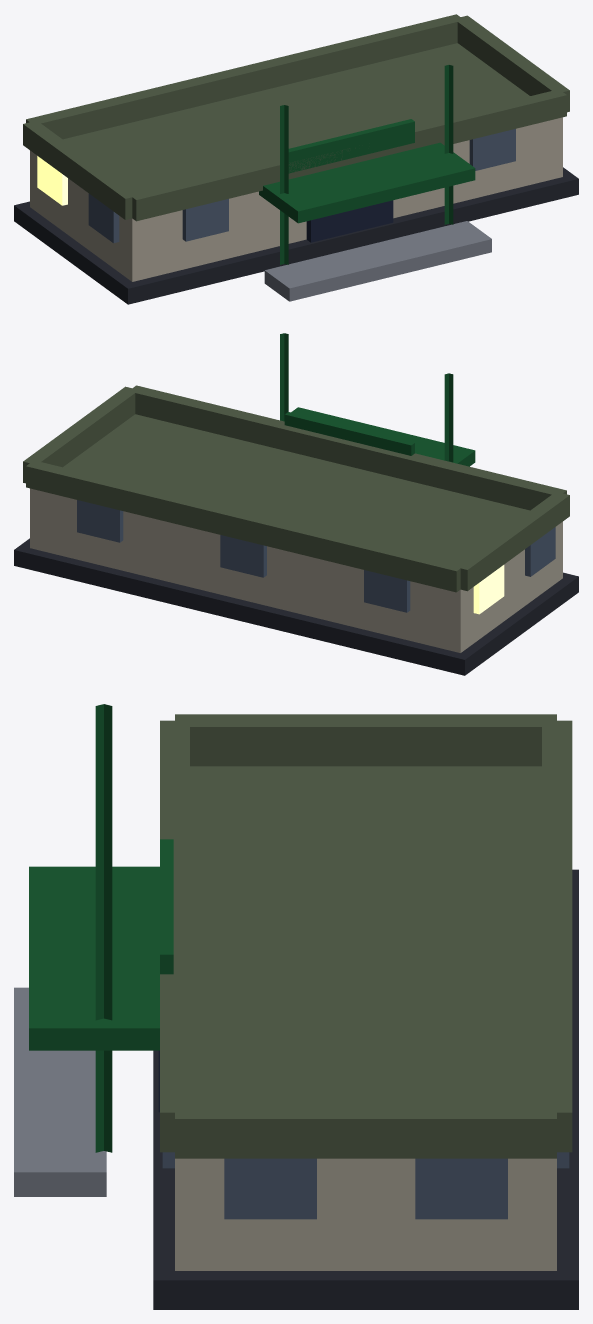
Rendered from pavilion-high.glb.
3 renders of one model, top to bottom at view 1: azimuth 30°, elevation 25°; view 2: azimuth 150°, elevation 25°; view 3: azimuth 270°, elevation 25°, orthographic. The views are drawn at different scales.
Bounding box in the file's own units: 35.6 × 13 × 20.7.
